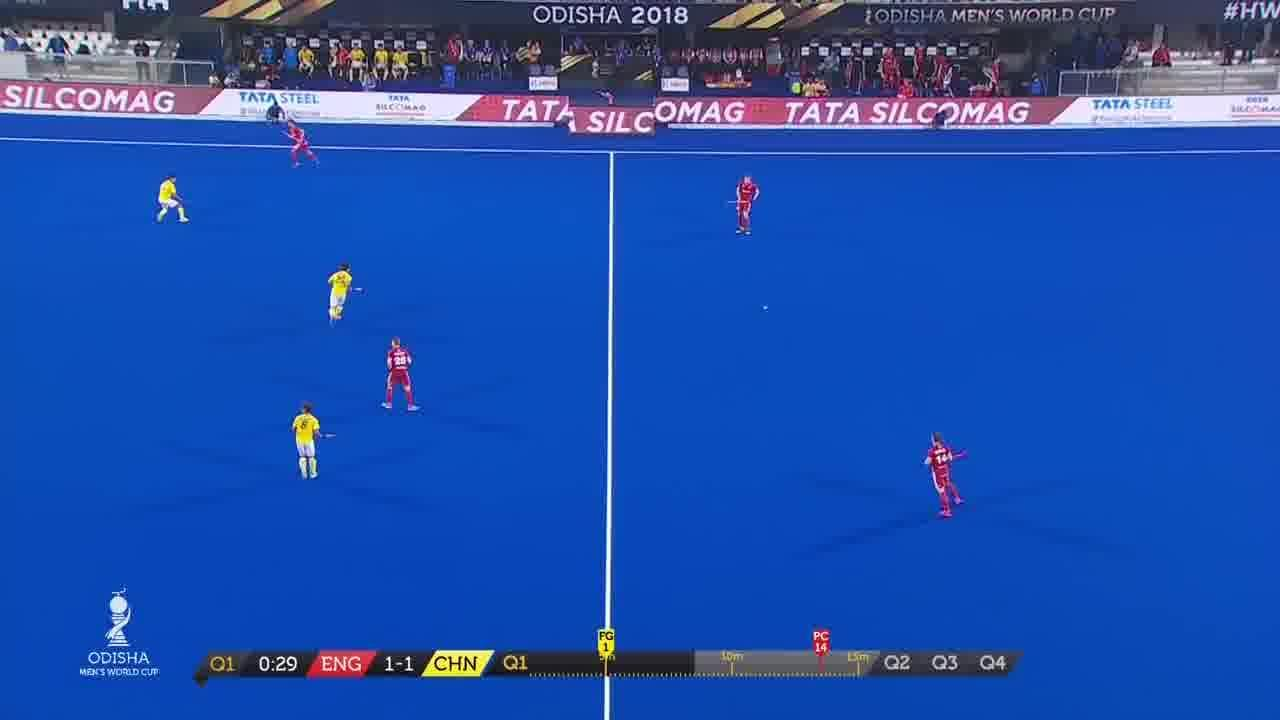ball: (755, 300, 775, 319)
